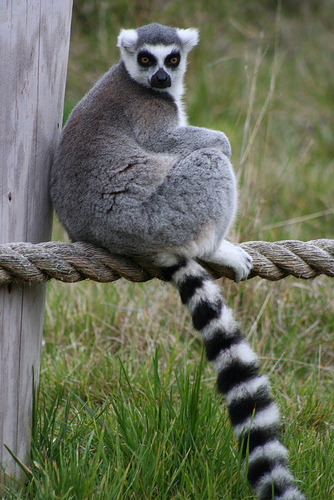cat: (0, 2, 332, 496)
